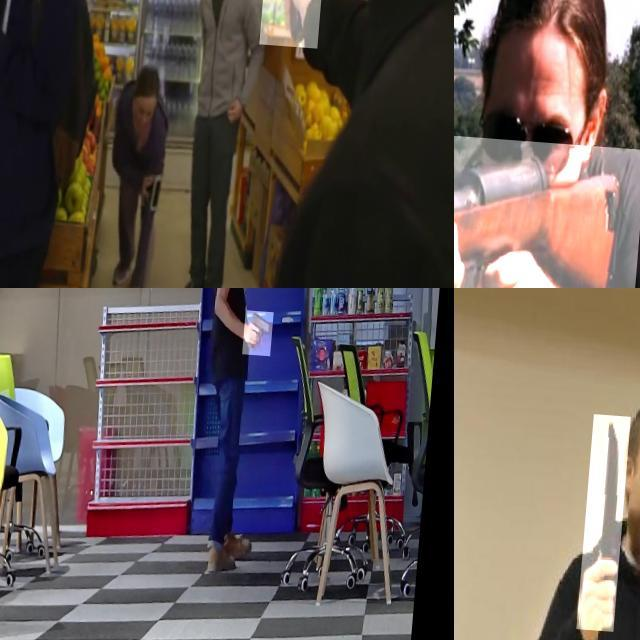-: (582, 409, 634, 626)
gun-knife-thesis - v11 Yolov5 augmented: (454, 124, 640, 288), (264, 0, 331, 68), (246, 304, 278, 349)
